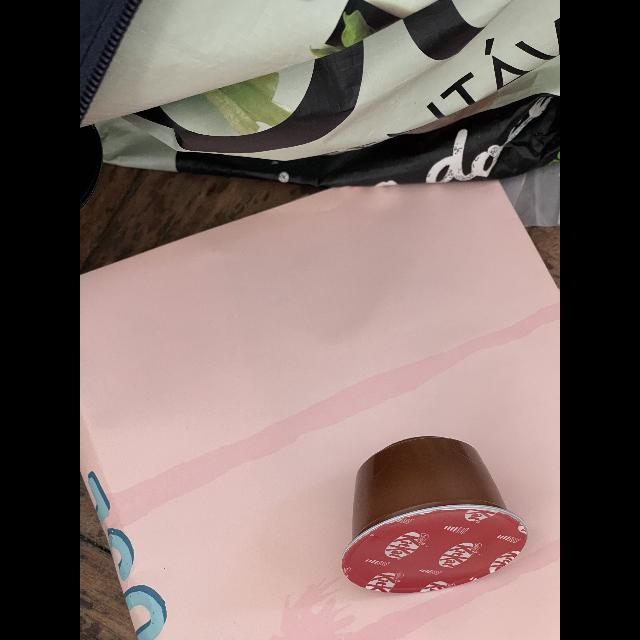intact_capsule: (332, 422, 536, 612)
